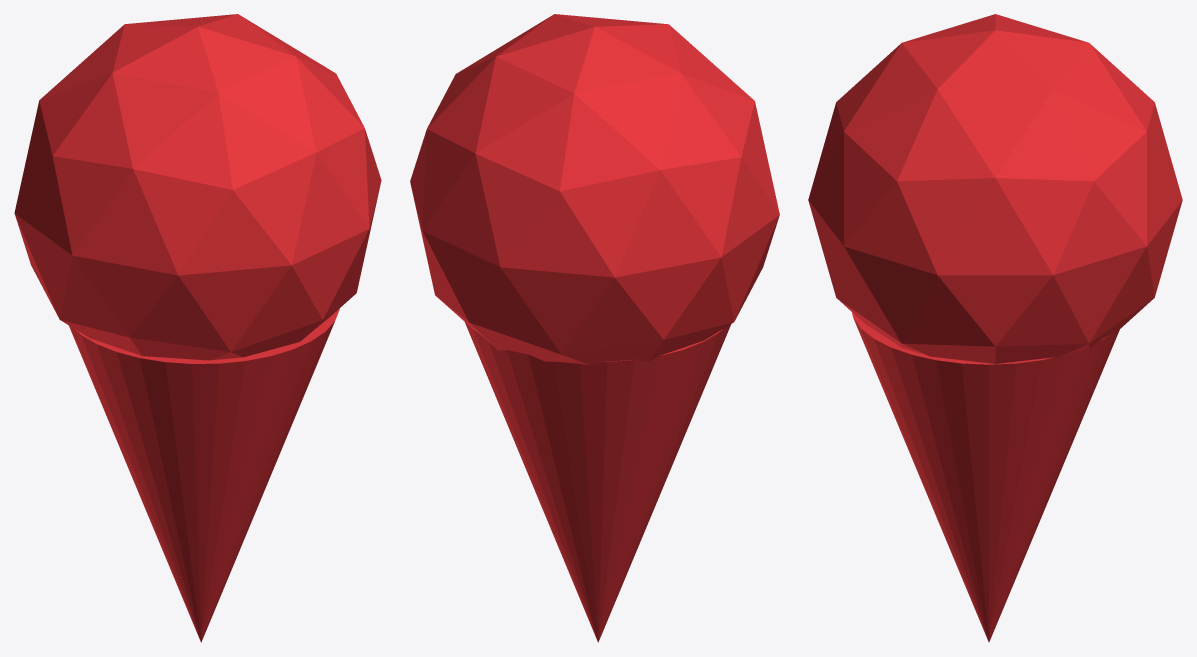
The model's file is pin-red.glb.
3 views of the same model, side by side, from view 1: azimuth 30°, elevation 25°; view 2: azimuth 150°, elevation 25°; view 3: azimuth 270°, elevation 25° (orthographic).
Parts seen in each view (by area): view 1: Icosphere, Cone; view 2: Icosphere, Cone; view 3: Icosphere, Cone.
Boxes of the visible parts, x1,y1,x2,y2 form: Icosphere: [14, 14, 381, 360]; Cone: [69, 309, 339, 642]; Icosphere: [410, 14, 779, 365]; Cone: [465, 322, 731, 642]; Icosphere: [808, 14, 1182, 363]; Cone: [852, 312, 1119, 642].
Size of the model in its own units: 0.0881 by 0.1673 by 0.0927.
